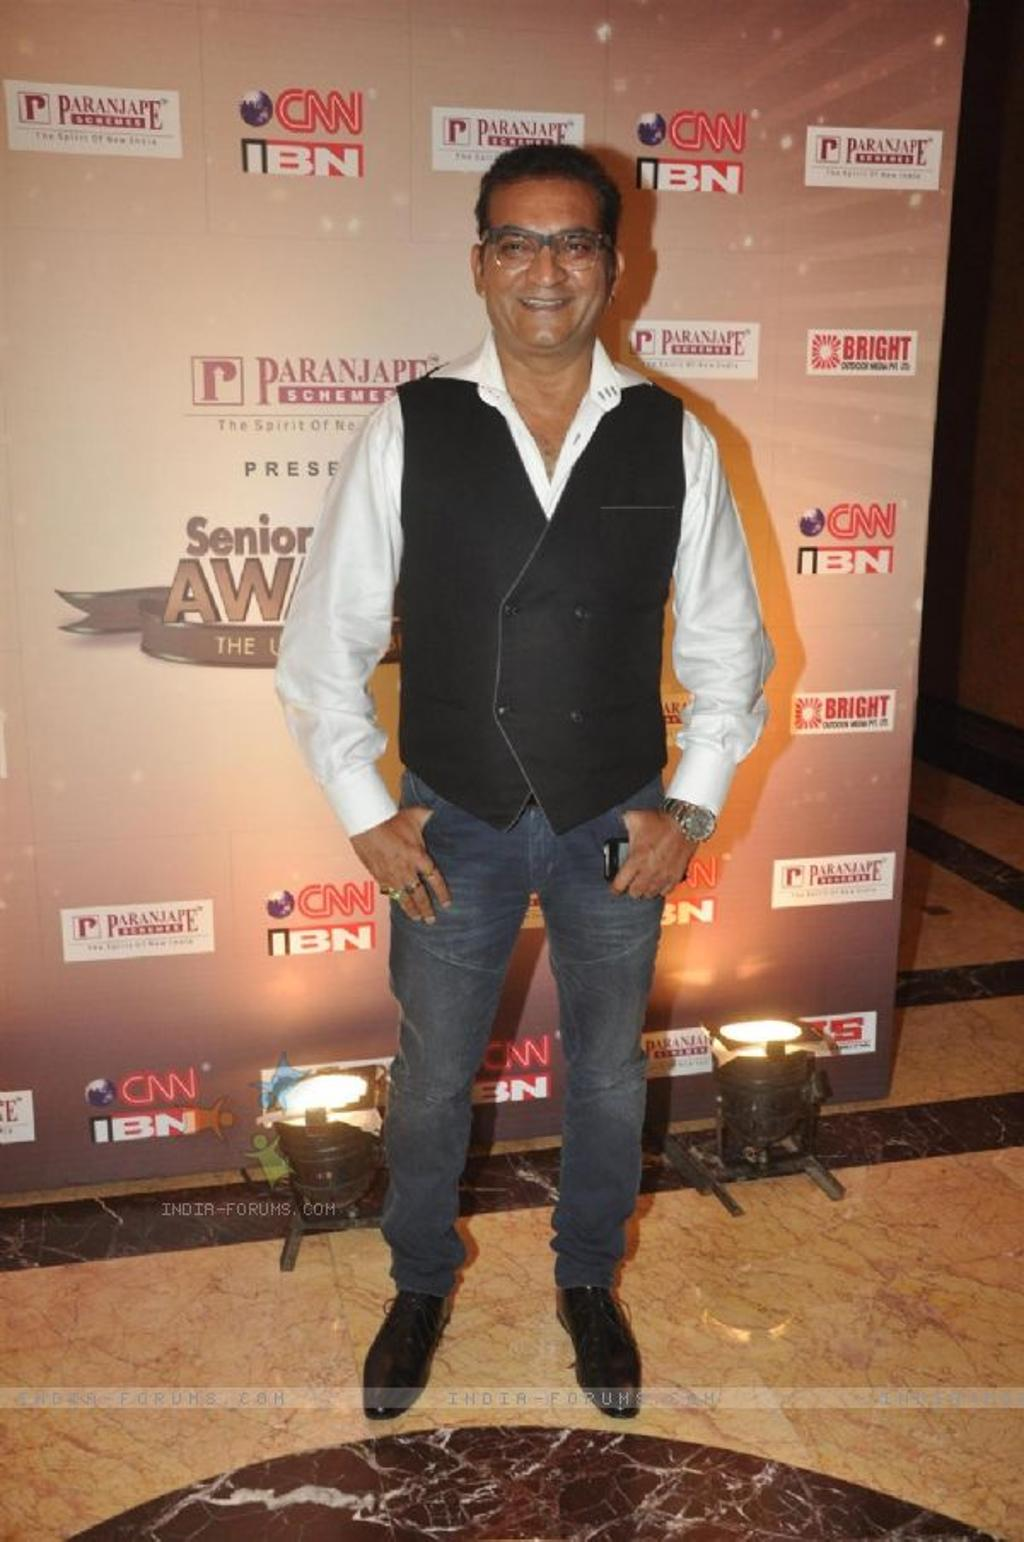face: (482, 166, 608, 350)
